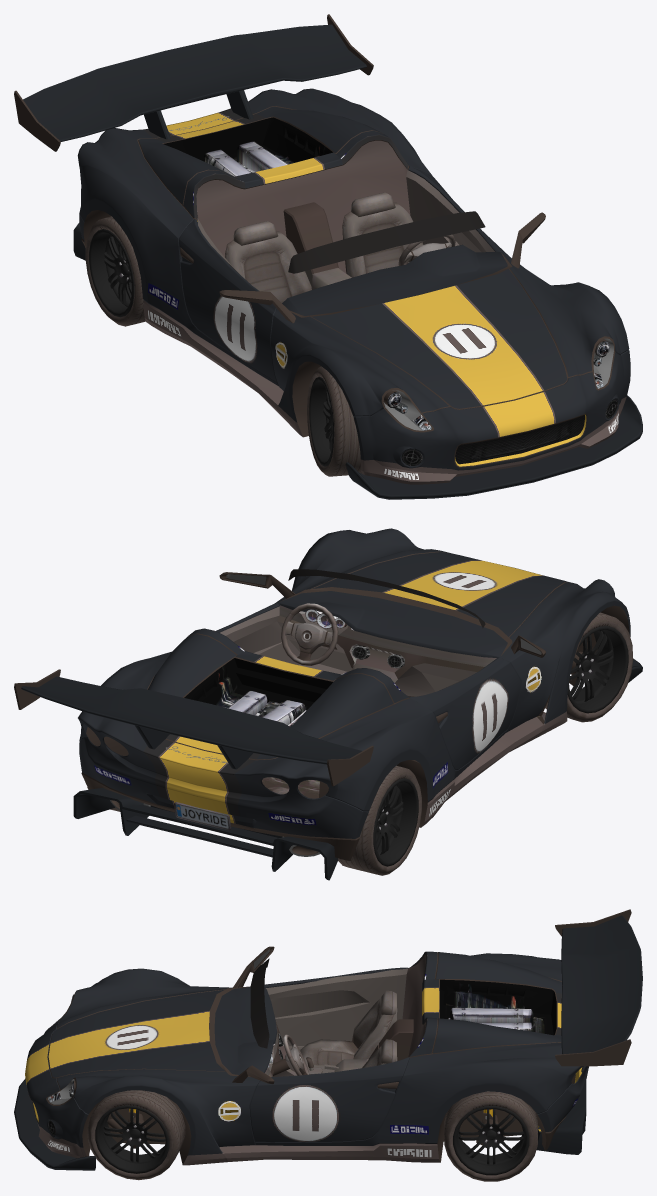
The model's file is sportscar2.glb.
3 renders of one model, top to bottom at view 1: azimuth 30°, elevation 25°; view 2: azimuth 150°, elevation 25°; view 3: azimuth 270°, elevation 25°, orthographic. The views are drawn at different scales.
Visible parts, largest first — view 1: node_id629, node_id622, node_id557, node_id566, node_id555, node_id577, node_id627, node_id631, node_id645, node_id615, node_id635, node_id612 (+6 smaller); view 2: node_id629, node_id622, node_id557, node_id555, node_id631, node_id627, node_id579, node_id608, node_id615, node_id568, node_id619, node_id624 (+6 smaller); view 3: node_id629, node_id557, node_id622, node_id627, node_id631, node_id555, node_id566, node_id601, node_id594, node_id577, node_id598, node_id605 (+8 smaller).
Part boxes in pixels (x1,y1,x2,y2): node_id629: (77, 88, 630, 484); node_id622: (23, 24, 366, 141); node_id557: (196, 140, 494, 289); node_id566: (225, 192, 423, 302); node_id555: (282, 244, 507, 315); node_id577: (345, 395, 642, 499); node_id627: (163, 117, 332, 176); node_id631: (81, 106, 615, 467); node_id645: (288, 211, 485, 273); node_id615: (89, 229, 134, 317); node_id635: (455, 415, 584, 464); node_id612: (315, 366, 361, 476); node_id629: (78, 528, 630, 838); node_id622: (21, 676, 361, 769); node_id557: (220, 605, 496, 697); node_id555: (279, 591, 507, 657); node_id631: (81, 551, 629, 860); node_id627: (184, 658, 332, 726); node_id579: (73, 788, 338, 880); node_id608: (567, 626, 628, 713); node_id615: (373, 778, 418, 866); node_id568: (281, 603, 338, 665); node_id619: (338, 765, 416, 875); node_id624: (14, 669, 373, 786); node_id629: (25, 951, 588, 1165); node_id557: (265, 956, 425, 1076); node_id622: (561, 915, 642, 1054); node_id627: (440, 979, 556, 1035); node_id631: (29, 952, 575, 1164); node_id555: (214, 987, 277, 1076); node_id566: (300, 990, 397, 1068); node_id601: (453, 1106, 529, 1175); node_id594: (95, 1105, 169, 1173); node_id577: (14, 1078, 95, 1170); node_id598: (87, 1090, 185, 1180); node_id605: (444, 1091, 537, 1181).
Size of the model in its own units: 0.512 by 0.2669 by 1.01.
47 materials, 47 textured.
